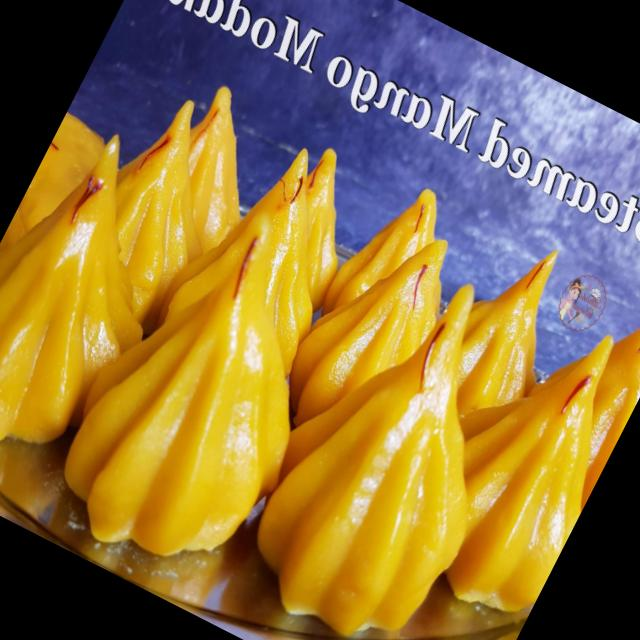modak: (0, 45, 640, 640)
